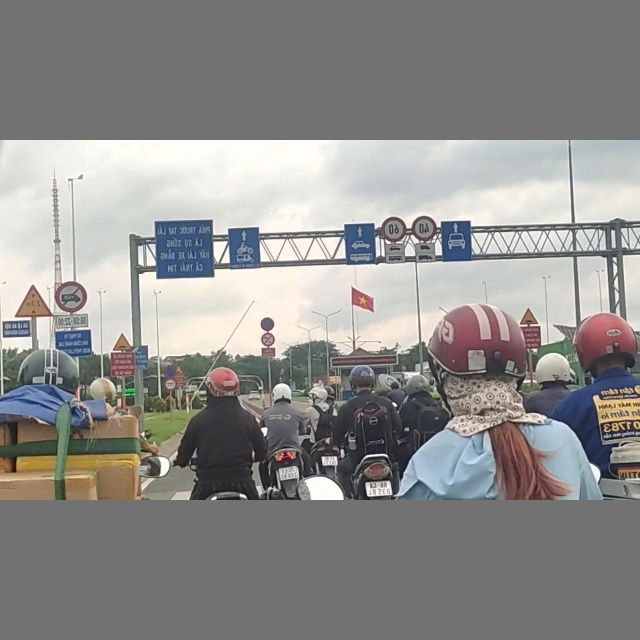Camera: (133, 345, 149, 367)
P.106a*Xe tai: (55, 281, 87, 313)
P.111: (261, 333, 275, 347)
P.127*40: (411, 216, 437, 240)
P.127*60: (381, 217, 406, 242)
P.129: (164, 379, 176, 389)
P.130: (260, 317, 275, 331)
P.131a: (163, 365, 176, 378)
W.221b: (519, 307, 539, 325), (112, 333, 132, 350), (176, 365, 184, 375)
W.239b*: (13, 285, 53, 318)
